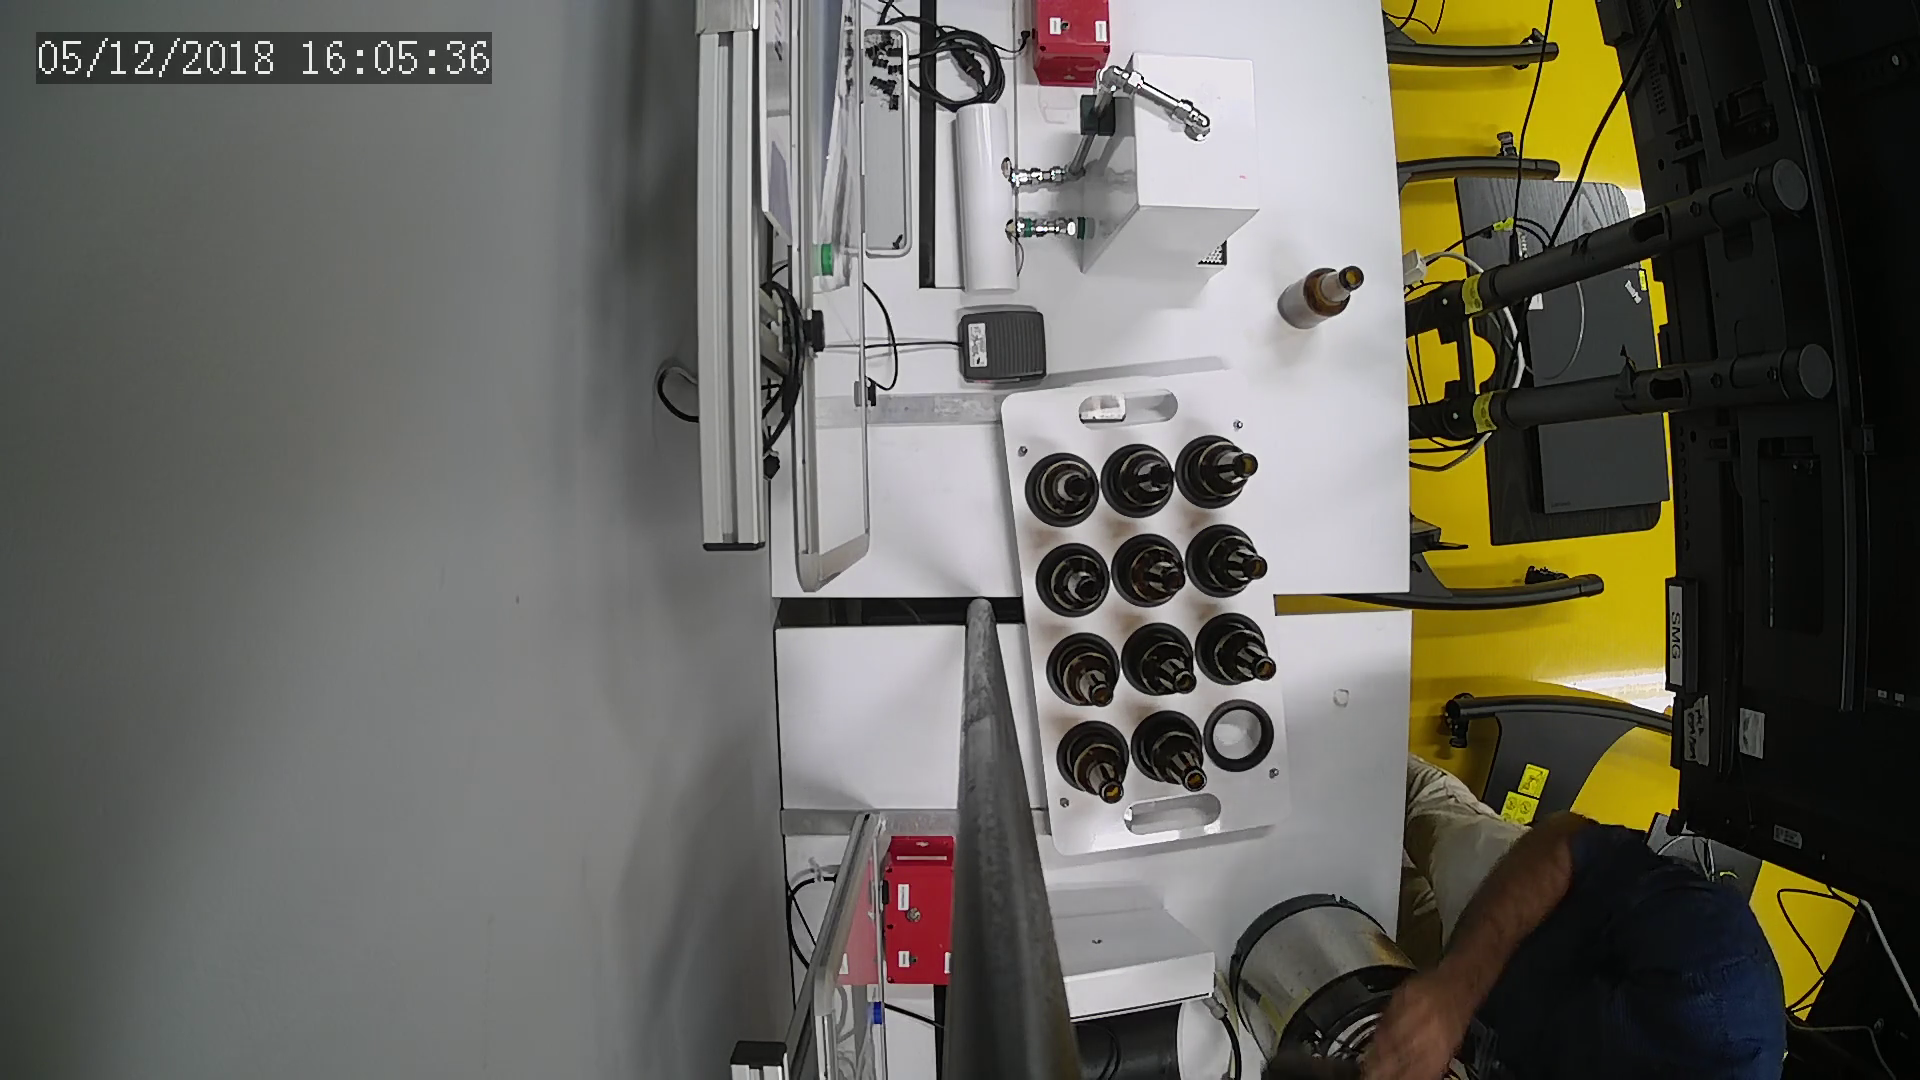filled_bottle: (1135, 707, 1216, 803), (1176, 429, 1265, 516), (1043, 626, 1126, 715), (1189, 520, 1276, 603), (1054, 720, 1133, 811), (1095, 440, 1179, 524), (1118, 620, 1203, 703), (1201, 609, 1283, 694), (1025, 447, 1101, 531), (1112, 530, 1187, 613), (1035, 541, 1112, 620)
trolley: (993, 371, 1298, 857)
unfilled_bottle: (1278, 262, 1371, 336)
